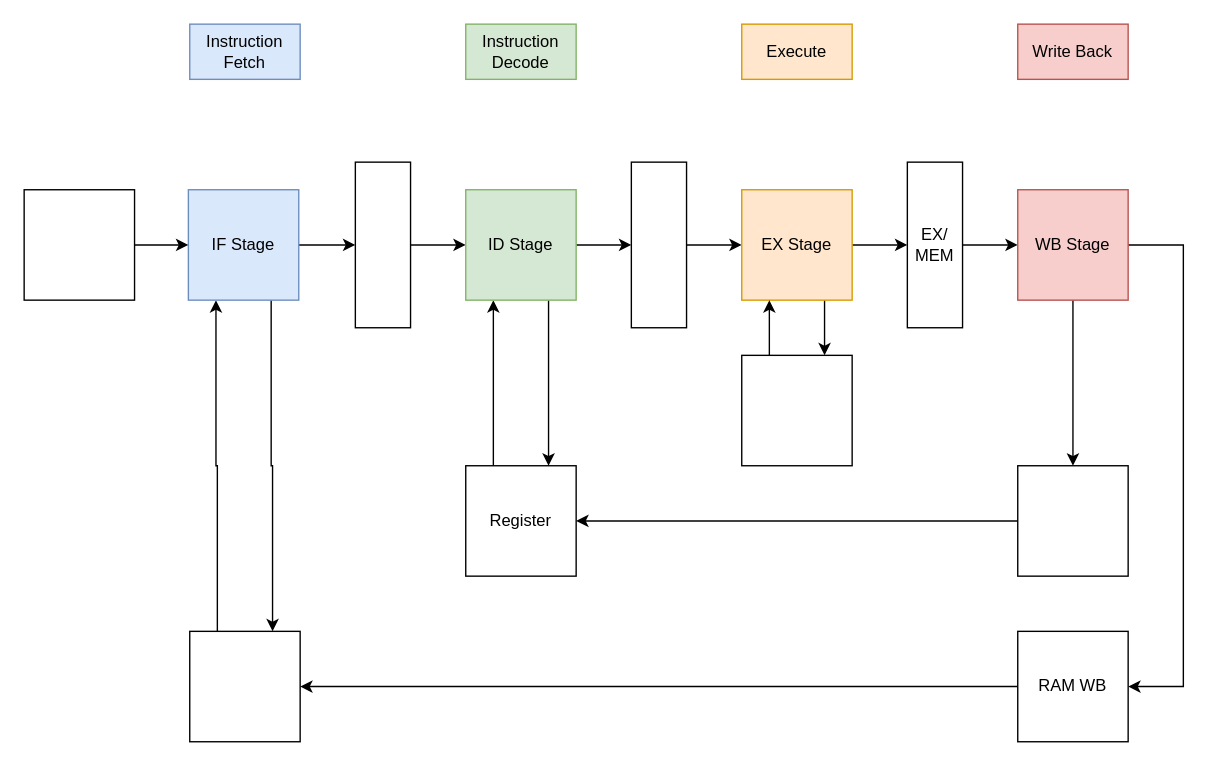
This 1219x766 diagram has some shape labels left out. Here are the shapes that lost their labels. From the top down, the box of each, then its label:
(23, 188, 135, 300): ROM
(354, 161, 411, 328): IF/ID
(630, 161, 687, 328): ID/EX
(740, 354, 852, 466): ALU
(1016, 464, 1128, 576): Register WB
(188, 630, 300, 742): RAM
